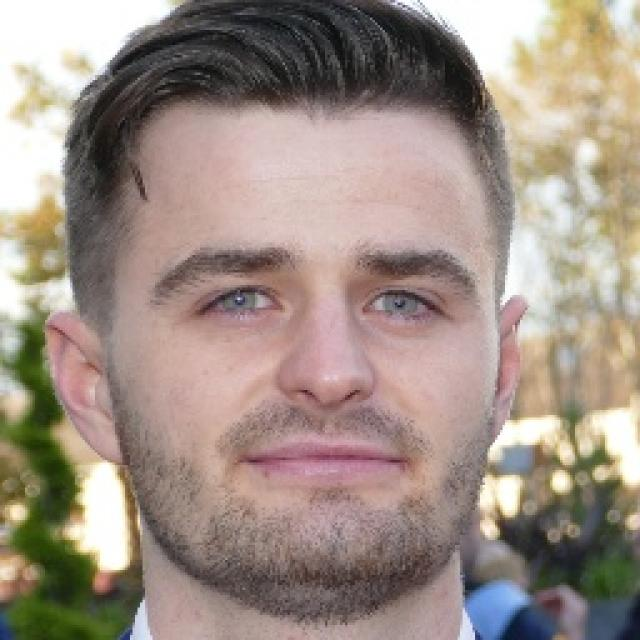earlobe: (42, 310, 128, 466), (482, 294, 529, 448)
